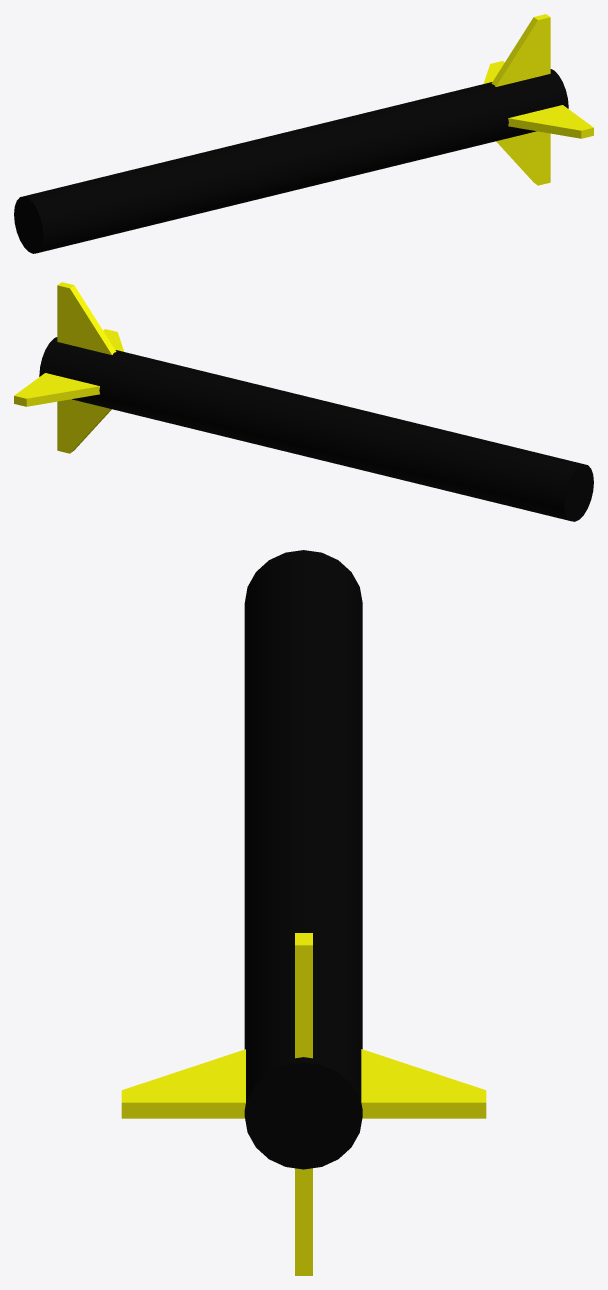
Rendered from missile.fbx.
3 views of the same model, one above another, from view 1: azimuth 30°, elevation 25°; view 2: azimuth 150°, elevation 25°; view 3: azimuth 270°, elevation 25° (orthographic). The views are drawn at different scales.
Parts seen in each view (by area): view 1: missile; view 2: missile; view 3: missile.
Part boxes in pixels (x1,y1,x2,y2): missile: (14,14,593,253); missile: (14,282,593,521); missile: (121,550,486,1275).
Size of the model in its own units: 308 by 92.69 by 92.68.
